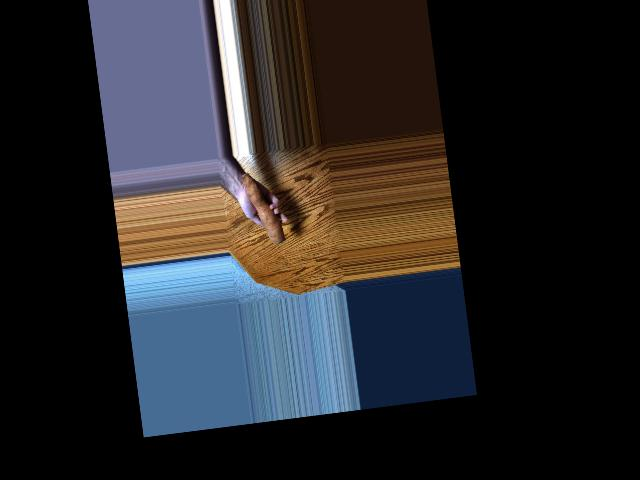sweet_potato: (239, 166, 287, 248)
